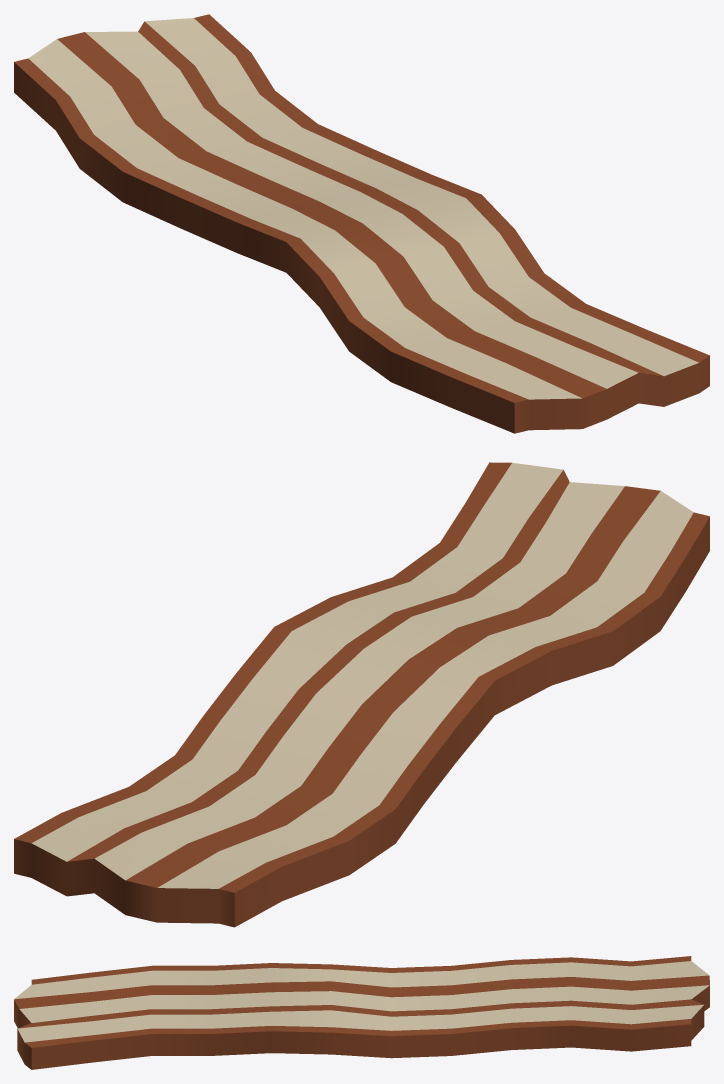
The model's file is Bacon.fbx.
3 views of the same model, one above another, from view 1: azimuth 30°, elevation 25°; view 2: azimuth 150°, elevation 25°; view 3: azimuth 270°, elevation 25° (orthographic). The views are drawn at different scales.
Visible parts, largest first — view 1: FORK:Bacon; view 2: FORK:Bacon; view 3: FORK:Bacon.
Boxes of the visible parts, box(x1,y1,x2,y2) form: FORK:Bacon: box(14, 14, 709, 433); FORK:Bacon: box(14, 462, 709, 927); FORK:Bacon: box(14, 956, 709, 1069).
Bounding box in the file's own units: 8.46 × 1.42 × 28.13.
